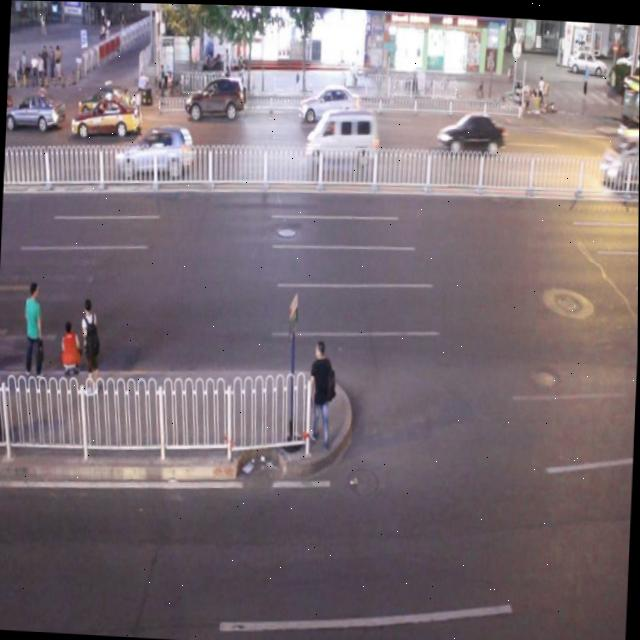car: (117, 121, 192, 174), (435, 106, 506, 152), (184, 71, 246, 119), (71, 98, 139, 138), (298, 78, 359, 121), (6, 89, 64, 131), (89, 81, 140, 112), (614, 125, 639, 175)
truck: (304, 105, 377, 164), (597, 121, 639, 180)
van: (615, 63, 640, 150)
